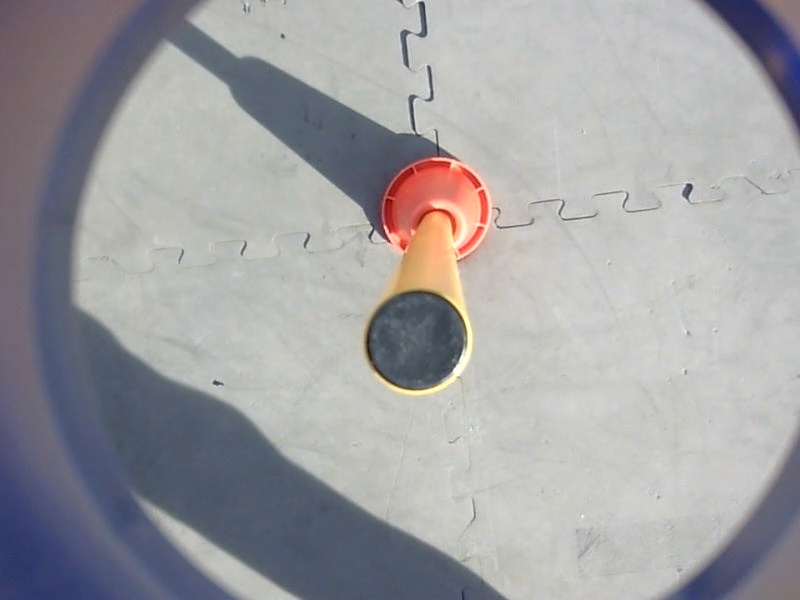tip: (359, 286, 477, 400)
